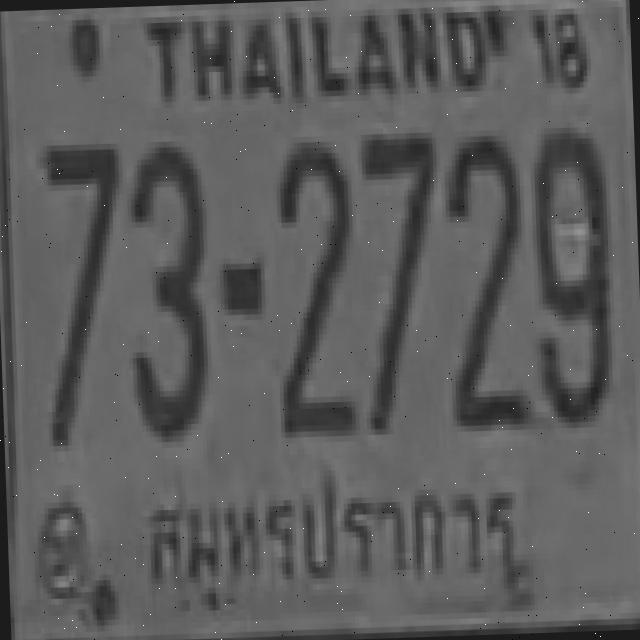2: (268, 133, 354, 434), (440, 126, 526, 424), (274, 135, 356, 420), (442, 130, 522, 403)
3: (120, 138, 210, 434)
7: (356, 126, 442, 428), (41, 138, 126, 440), (356, 126, 441, 383), (42, 140, 122, 404), (356, 126, 438, 326), (42, 138, 120, 344)
9: (527, 124, 612, 420)
SamutPrakan: (138, 452, 530, 608)
